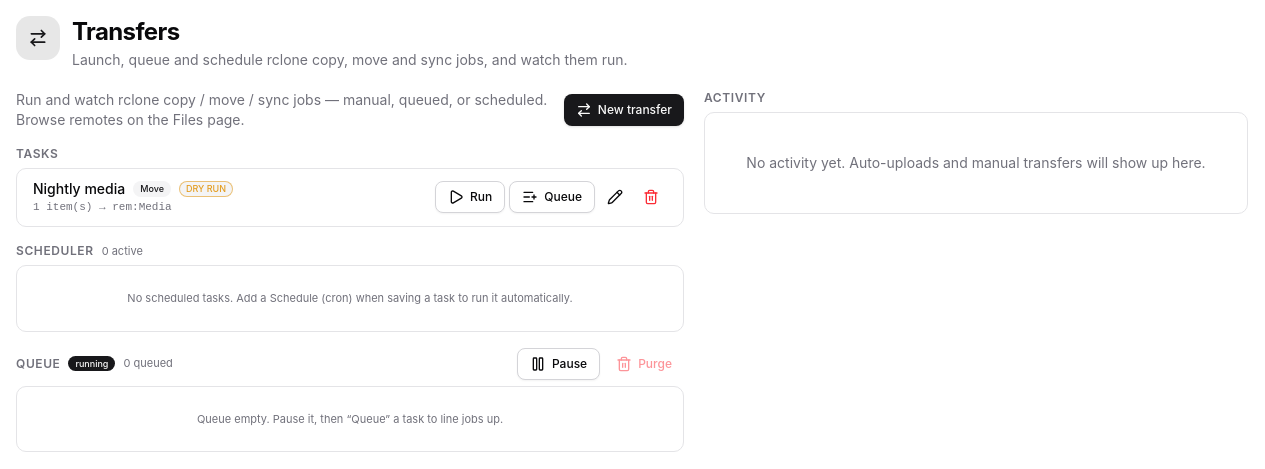
Test case: TransfersPanel actions › the launched job appears in Activity without waiting for a poll
The width and height of the screenshot is (1265, 469).
Click the button "Run" at (470, 197), box [435,181,505,213]
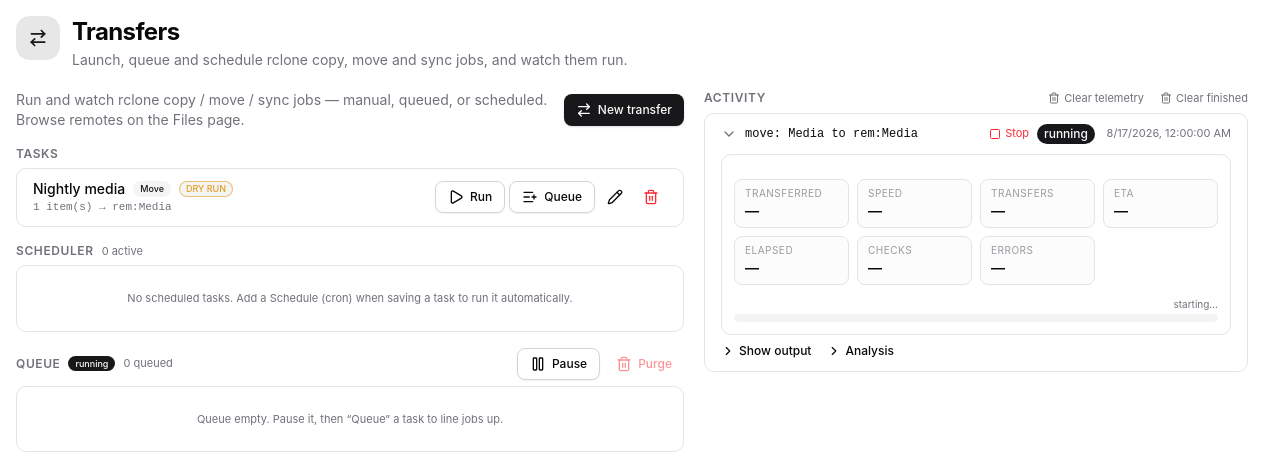
Now the text "move: Media to rem:Media" is shown, box [745,126,918,140]
